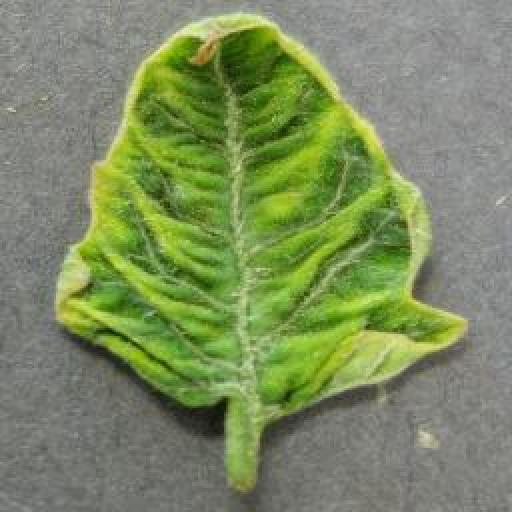disease_tomato: (54, 8, 471, 419)
